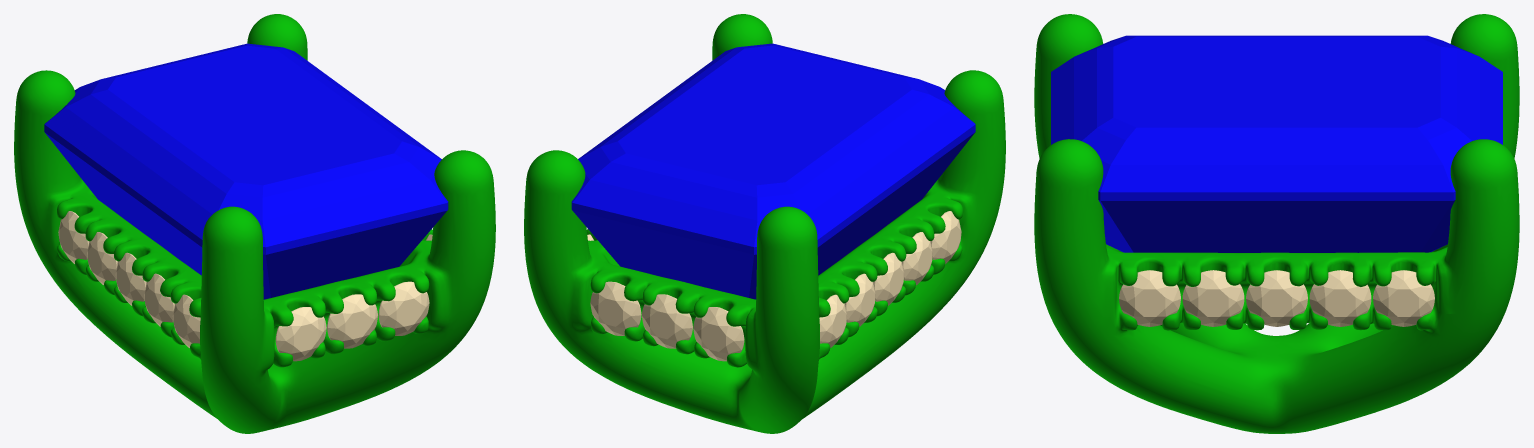
The picture shows the model from 3 angles, left to right: view 1: azimuth 30°, elevation 25°; view 2: azimuth 150°, elevation 25°; view 3: azimuth 270°, elevation 25°; orthographic projection. The views are drawn at different scales.
Parts seen in each view (by area): view 1: Metal01, Diamond_Emerald, Diamond_Round.014, Diamond_Round.013, Diamond_Round.015, Diamond_Round.001, Diamond_Round.002, Diamond_Round, Diamond_Round.003, Diamond_Round.004; view 2: Metal01, Diamond_Emerald, Diamond_Round.006, Diamond_Round.007, Diamond_Round.005, Diamond_Round.002, Diamond_Round.003, Diamond_Round.001, Diamond_Round.004, Diamond_Round; view 3: Diamond_Emerald, Metal01, Diamond_Round.012, Diamond_Round.008, Diamond_Round.009, Diamond_Round.011, Diamond_Round.010.
Boxes of the visible parts, x1,y1,x2,y2 form: Metal01: (14,14,495,433); Diamond_Emerald: (44,43,448,299); Diamond_Round.014: (327,294,377,348); Diamond_Round.013: (378,281,429,335); Diamond_Round.015: (275,307,326,361); Diamond_Round.001: (87,232,117,284); Diamond_Round.002: (115,252,146,305); Diamond_Round: (58,211,89,263); Diamond_Round.003: (144,273,174,326); Diamond_Round.004: (172,294,200,347); Metal01: (524,14,1005,433); Diamond_Emerald: (571,43,975,299); Diamond_Round.006: (642,294,692,348); Diamond_Round.007: (590,281,641,335); Diamond_Round.005: (693,307,744,361); Diamond_Round.002: (873,252,904,305); Diamond_Round.003: (902,232,932,285); Diamond_Round.001: (844,273,875,326); Diamond_Round.004: (930,211,961,263); Diamond_Round: (819,294,847,347); Diamond_Emerald: (1051,35,1502,252); Metal01: (1034,14,1519,433); Diamond_Round.012: (1373,270,1434,326); Diamond_Round.008: (1119,270,1180,326); Diamond_Round.009: (1182,270,1244,326); Diamond_Round.011: (1309,270,1371,326); Diamond_Round.010: (1246,270,1307,326).
Size of the model in its own units: 6.82 by 7.02 by 9.02.
